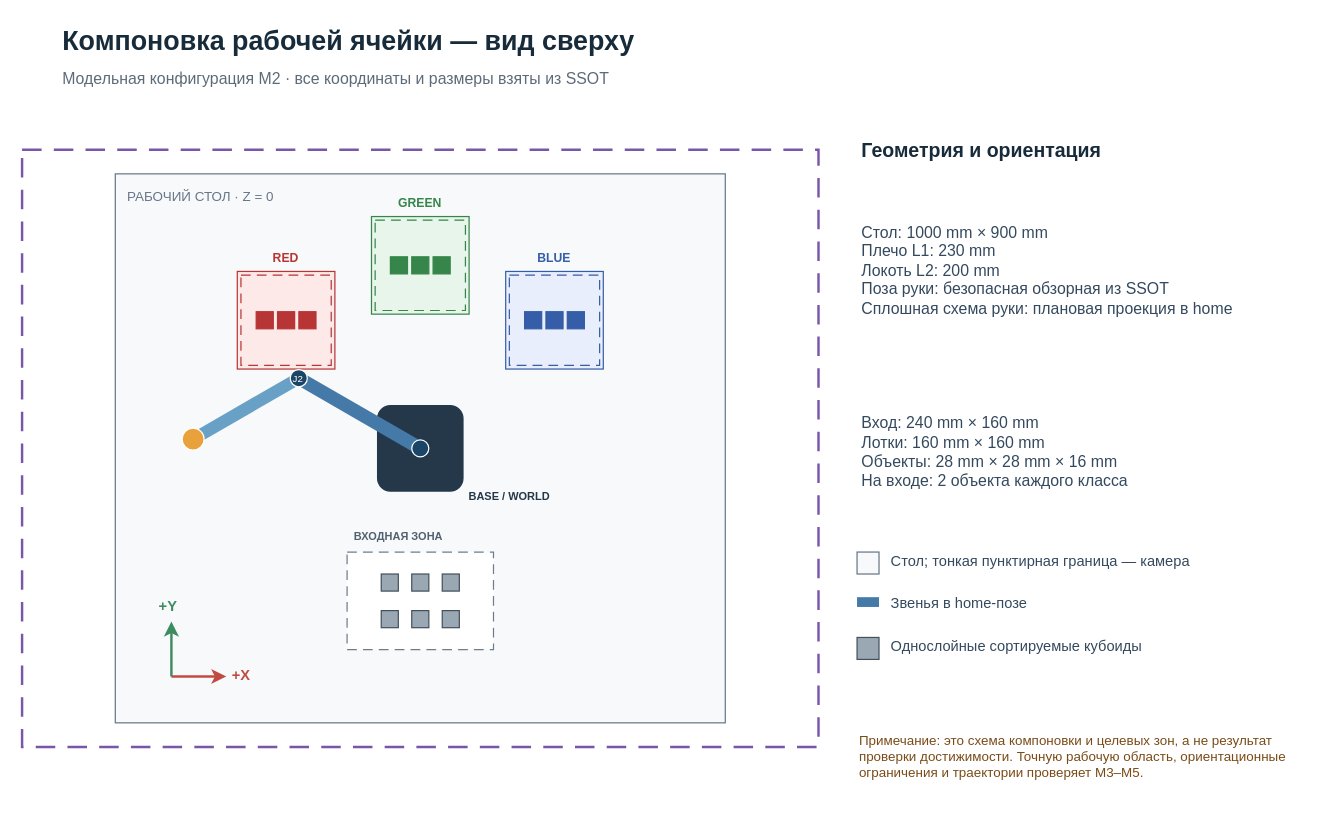
Image size: 1338x822. Some labels were removed from this diagram. Here are the shapes that lost their labels. From the top down, the box of each, then its label:
(181, 427, 204, 450): TCP
(411, 439, 429, 457): J1
